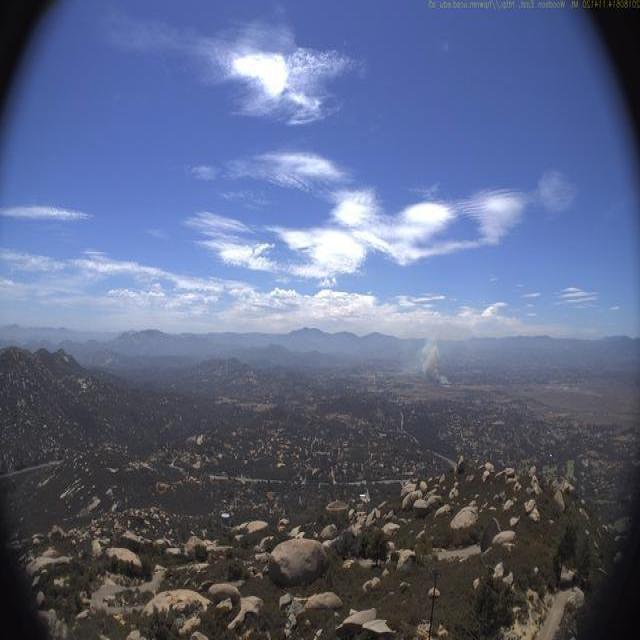Smoke: (398, 325, 458, 395)
